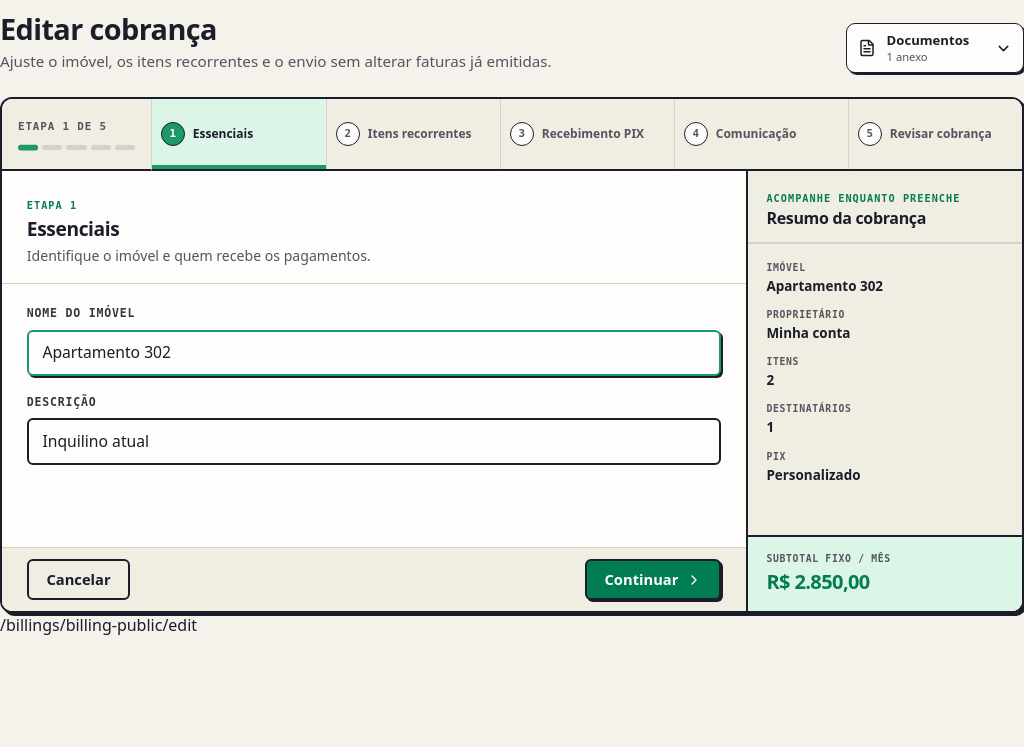
Test: shows readable attachments without upload or delete controls when files are read-only
Click the button with aria-label "Gerenciar documentos": (935, 48) top-left (846, 23), bottom-right (1023, 73)
(page scrolled)
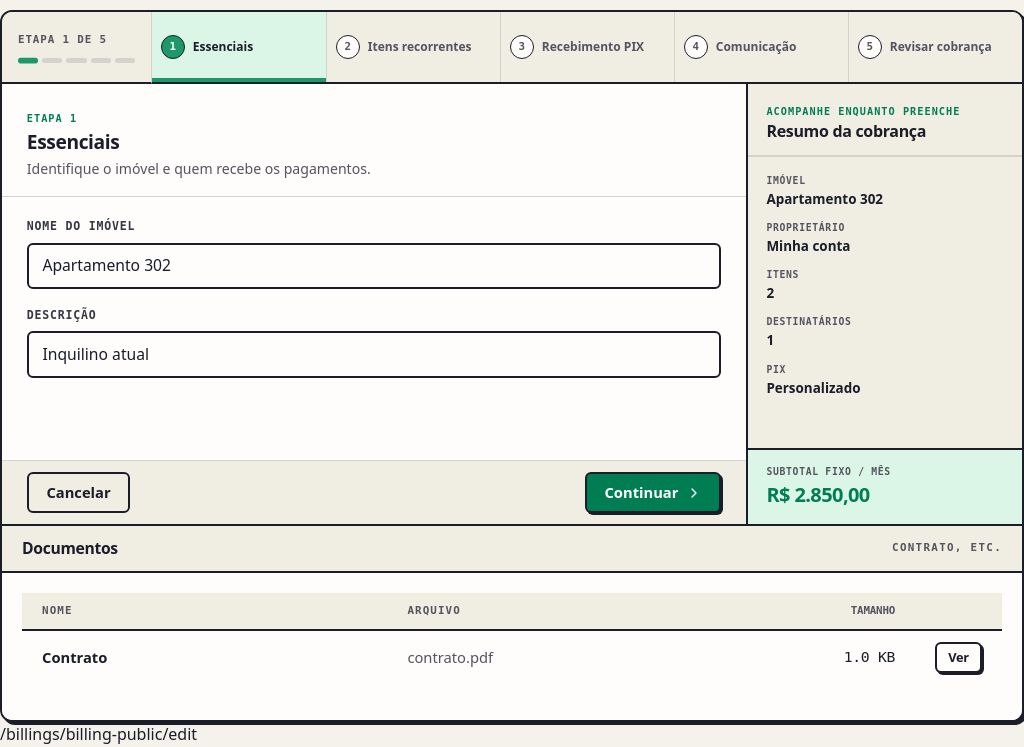
Now the text "Contrato" is shown, box top-left (22, 630), bottom-right (387, 684)
Now the link "Ver" is shown, box top-left (935, 642), bottom-right (982, 673)
